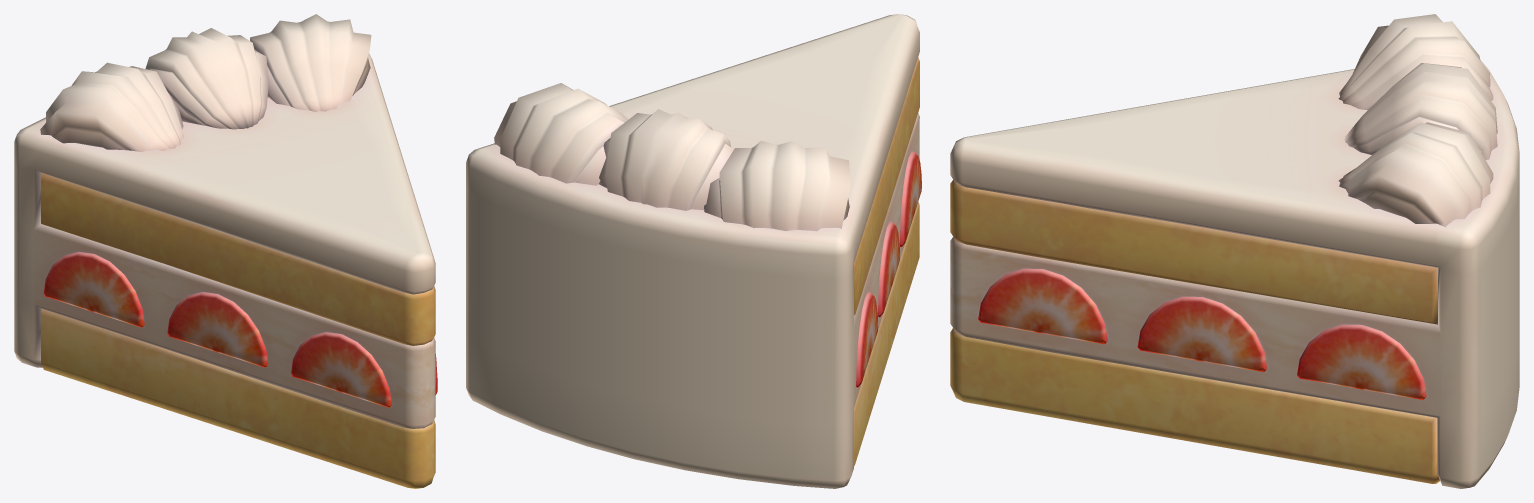
The model's file is StackUp_Cake.fbx.
3 views of the same model, side by side, from view 1: azimuth 30°, elevation 25°; view 2: azimuth 150°, elevation 25°; view 3: azimuth 270°, elevation 25° (orthographic). The views are drawn at different scales.
Parts seen in each view (by area): view 1: StackUp_Cake; view 2: StackUp_Cake; view 3: StackUp_Cake.
Boxes of the visible parts, x1,y1,x2,y2 form: StackUp_Cake: (14, 14, 437, 488); StackUp_Cake: (466, 14, 921, 488); StackUp_Cake: (950, 14, 1519, 488).
Bounding box in the file's own units: 13.46 × 10.79 × 16.99.
